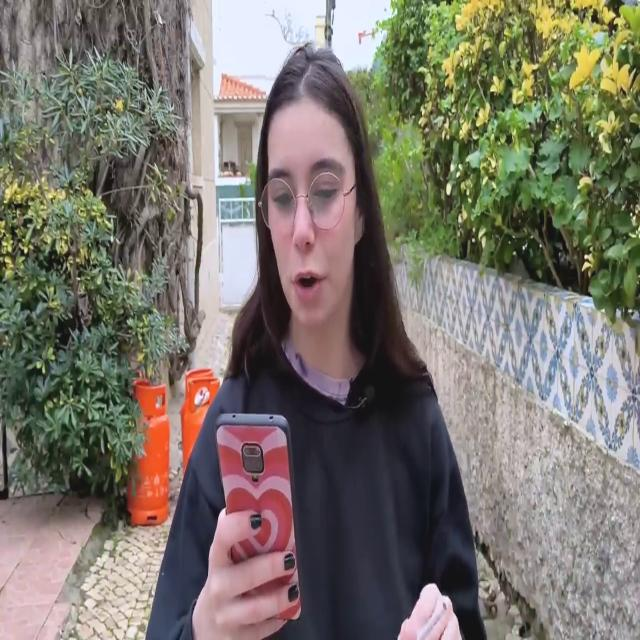Smooking: (415, 582, 448, 640)
